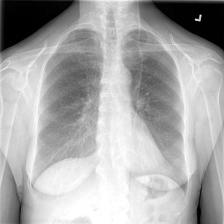normal: (29, 21, 192, 204)
